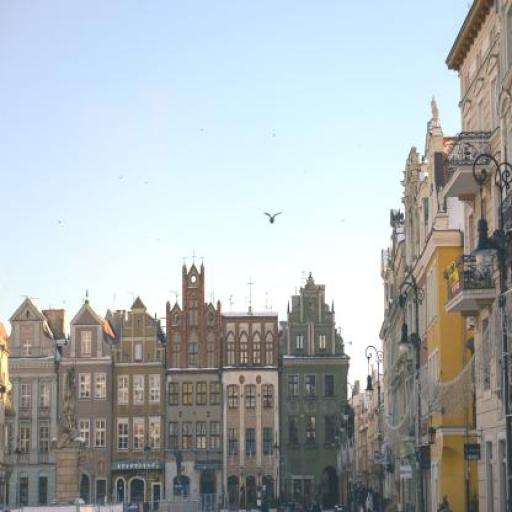street light: (471, 158, 511, 510), (396, 268, 425, 509), (364, 346, 384, 507), (343, 382, 357, 507), (340, 401, 350, 505), (334, 412, 344, 506)
